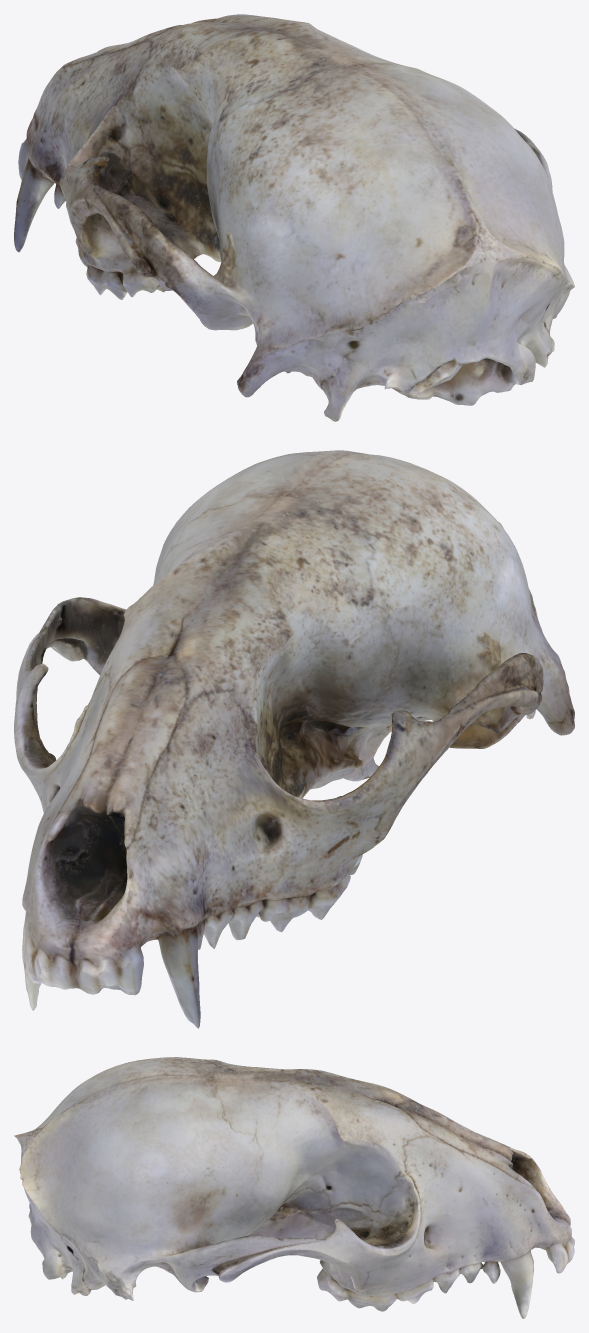
Rendered from procyon-lotor-crania-v2-202610281410.glb.
3 renders of one model, top to bottom at view 1: azimuth 30°, elevation 25°; view 2: azimuth 150°, elevation 25°; view 3: azimuth 270°, elevation 25°, orthographic. The views are drawn at different scales.
Visible parts, largest first — view 1: Object_3, Object_4, Object_5, Object_7, Object_2, Object_6, Object_8; view 2: Object_5, Object_3, Object_6, Object_2, Object_7, Object_4, Object_8; view 3: Object_2, Object_5, Object_7, Object_4, Object_6, Object_3, Object_8.
Part boxes in pixels (x1,y1,x2,y2): Object_3: (60, 36, 563, 421); Object_4: (108, 29, 556, 314); Object_5: (16, 14, 574, 353); Object_7: (36, 42, 567, 420); Object_2: (97, 15, 531, 405); Object_6: (14, 20, 214, 252); Object_8: (165, 129, 550, 393); Object_5: (22, 525, 492, 996); Object_3: (98, 477, 574, 887); Object_6: (17, 652, 283, 1028); Object_2: (27, 450, 574, 813); Object_7: (16, 456, 533, 968); Object_4: (230, 450, 543, 785); Object_8: (14, 523, 502, 762); Object_2: (112, 1072, 481, 1298); Object_5: (14, 1069, 574, 1318); Object_7: (19, 1057, 562, 1309); Object_4: (14, 1060, 356, 1239); Object_6: (378, 1091, 574, 1318); Object_3: (15, 1057, 432, 1311); Object_8: (19, 1127, 393, 1281).
Size of the model in its own units: 0.9193 by 0.6654 by 1.43.
Materials: 1 (1 with a texture image).
